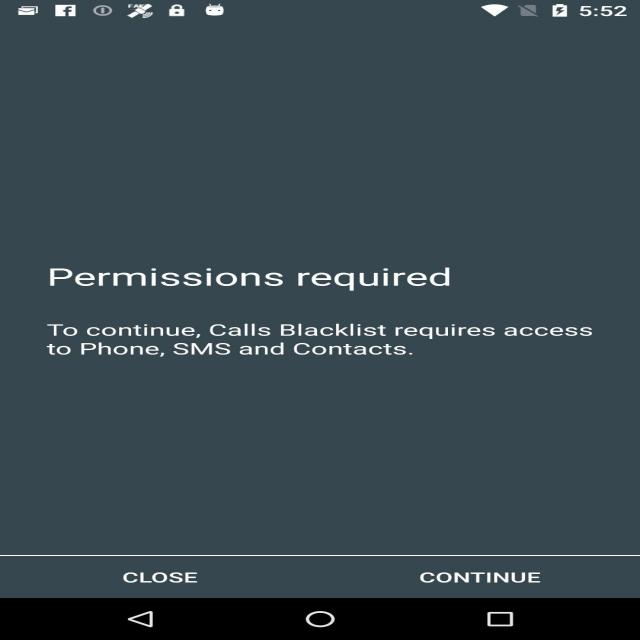button: (53, 527, 640, 609)
text: (48, 231, 640, 437)
